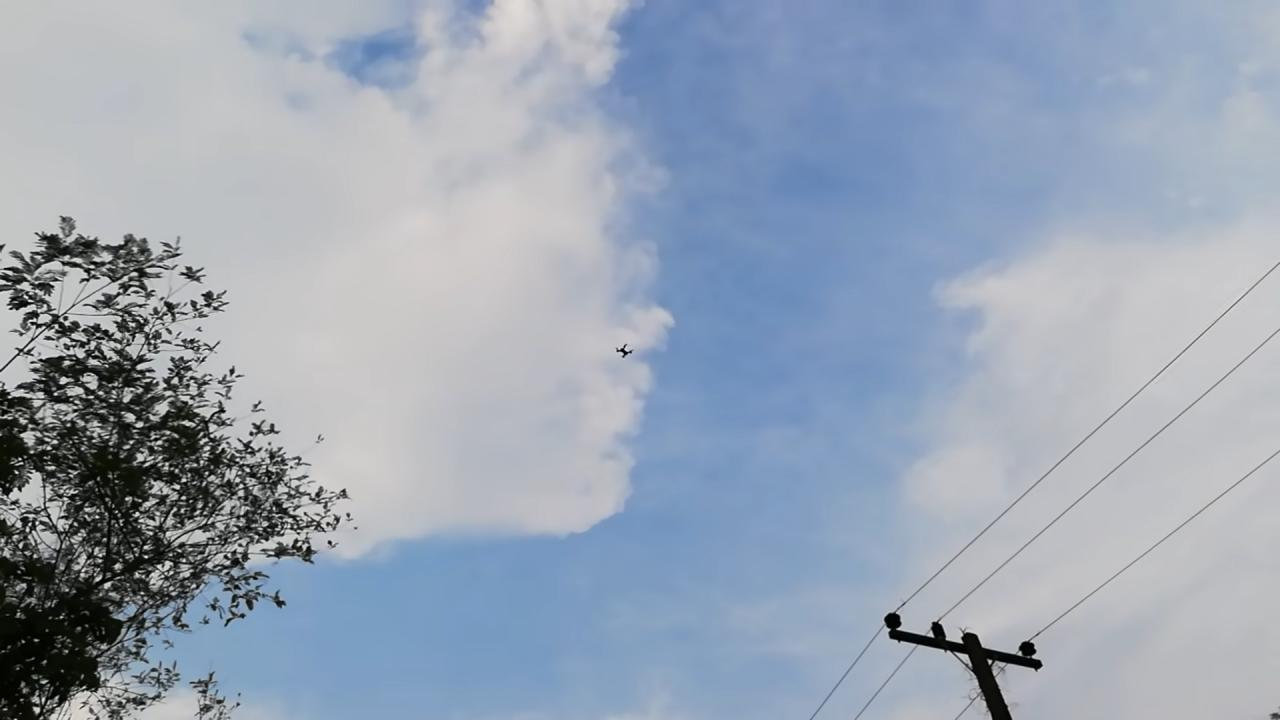Drone: (609, 333, 638, 365)
